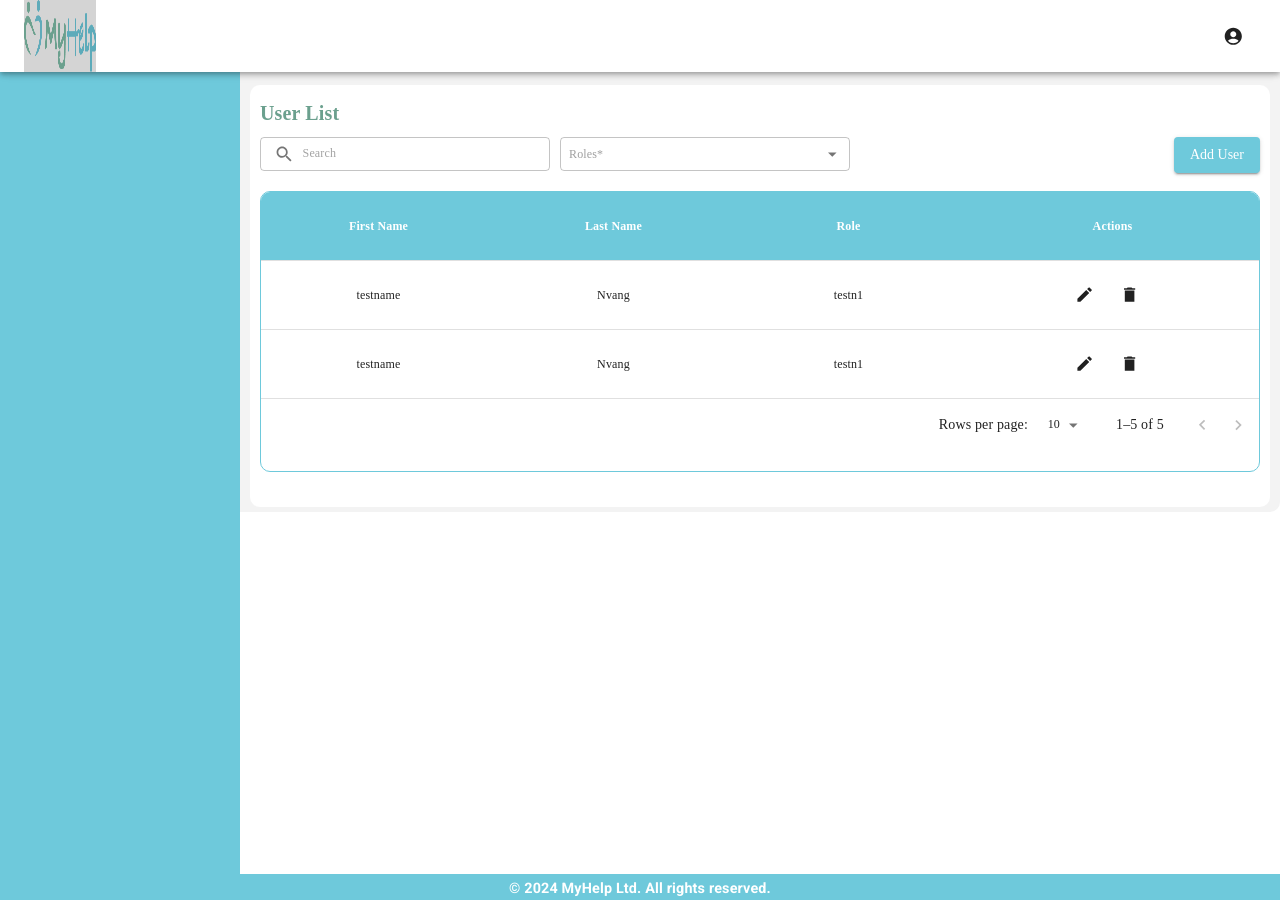
Scenario: Patient user add › should delete user
Click the button with test id "iconButton_delete_customeruserid1" at point(1130, 295), box [1112,277,1148,313]
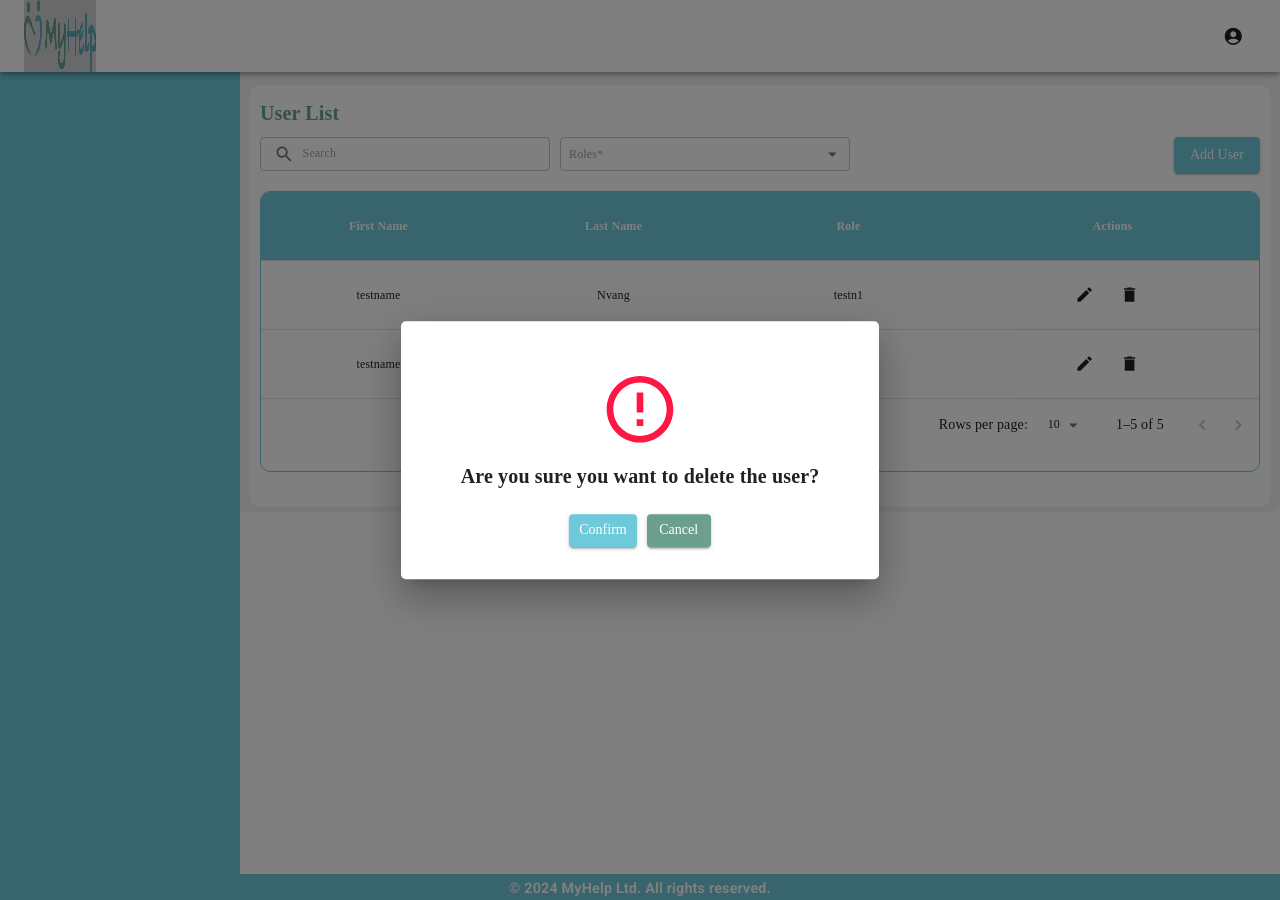
Click the button with test id "confirmButton" at point(603, 531), box [569,514,637,547]
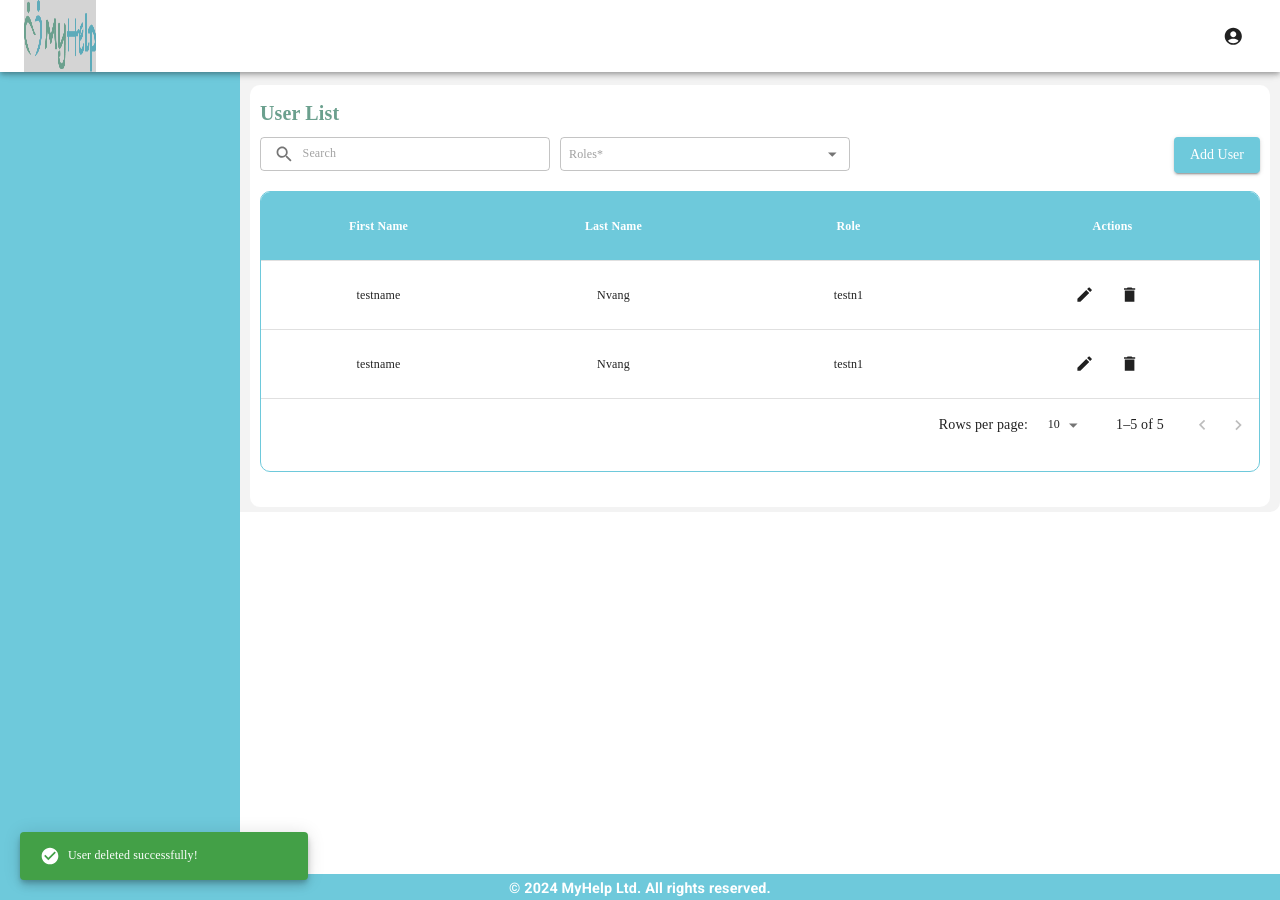
Check: the text "User deleted successfully!" is shown, box [40,846,198,866]
